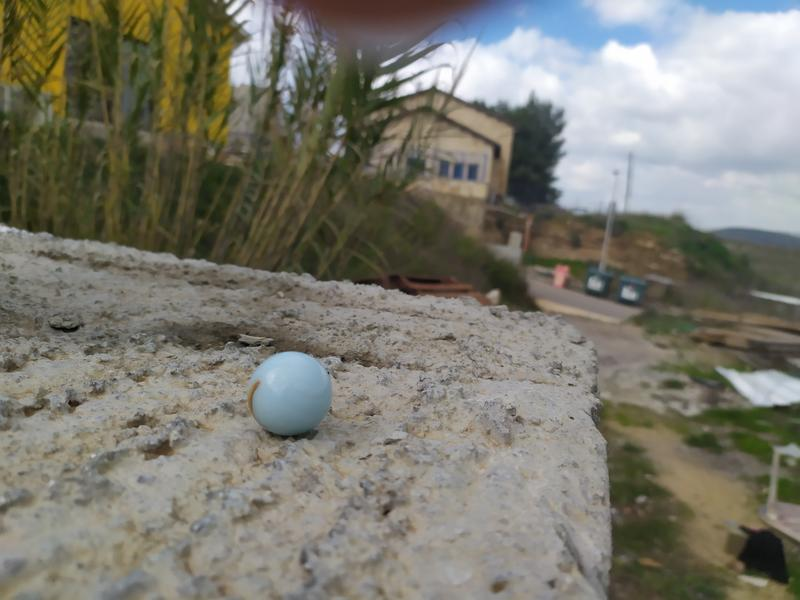Warning: (243, 349, 336, 439)
